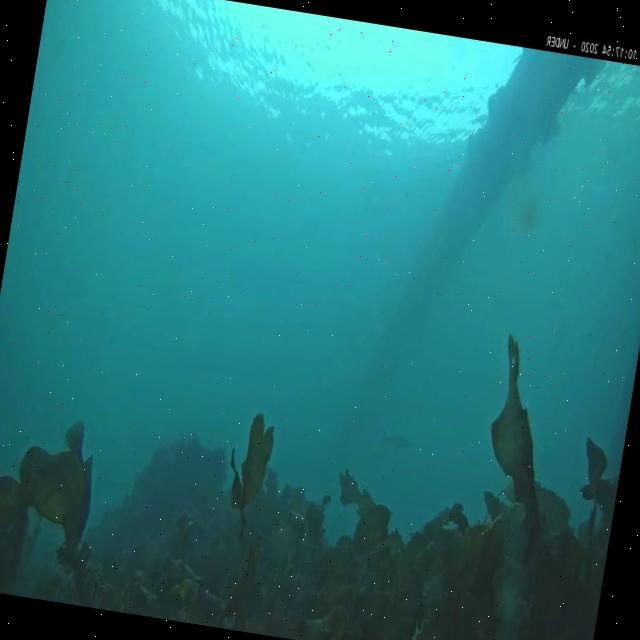fish: (372, 428, 413, 452)
